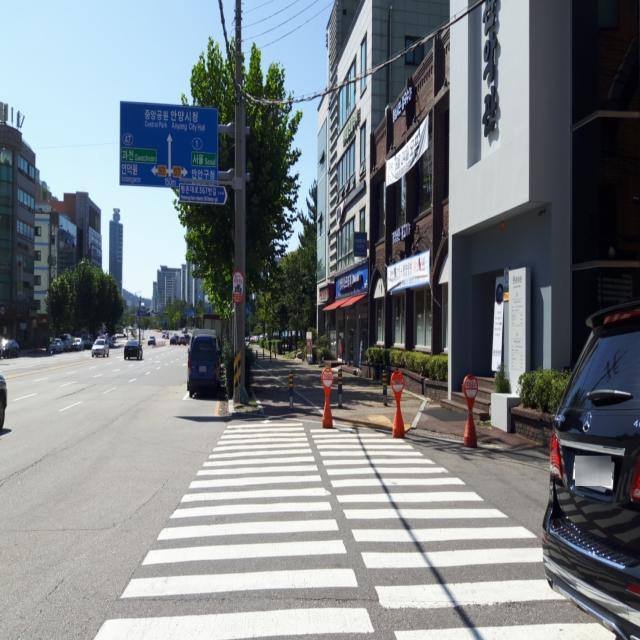횡단보도: (91, 412, 617, 640)
